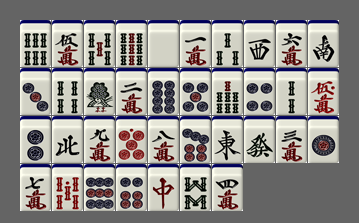0m: (308, 68, 339, 115)
0p: (116, 116, 147, 163)
0s: (52, 164, 83, 211)
1m: (180, 20, 211, 67)
1p: (308, 116, 339, 163)
1s: (84, 68, 115, 115)
1z: (212, 116, 243, 163)
2m: (116, 68, 147, 115)
2p: (20, 116, 51, 163)
2s: (276, 68, 307, 115)
2z: (308, 20, 339, 67)
3m: (276, 116, 307, 163)
3p: (20, 68, 51, 115)
3s: (212, 20, 243, 67)
3z: (244, 20, 275, 67)
4m: (212, 164, 243, 211)
4p: (244, 68, 275, 115)
4s: (52, 68, 83, 115)
4z: (52, 116, 83, 163)
5m: (52, 20, 83, 67)
5p: (180, 68, 211, 115)
5s: (84, 20, 115, 67)
5z: (148, 20, 179, 67)
6m: (276, 20, 307, 67)
6p: (116, 164, 147, 211)
6s: (20, 20, 51, 67)
6z: (244, 116, 275, 163)
7m: (20, 164, 51, 211)
7p: (180, 116, 211, 163)
7s: (212, 68, 243, 115)
7z: (148, 164, 179, 211)
8m: (148, 116, 179, 163)
8p: (148, 68, 179, 115)
8s: (180, 164, 211, 211)
9m: (84, 116, 115, 163)
9p: (84, 164, 115, 211)
9s: (116, 20, 147, 67)
